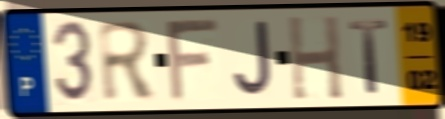3: (48, 17, 96, 108)
F: (163, 16, 221, 105)
H: (286, 13, 346, 103)
J: (231, 18, 274, 100)
R: (95, 19, 160, 105)
T: (346, 17, 392, 96)
